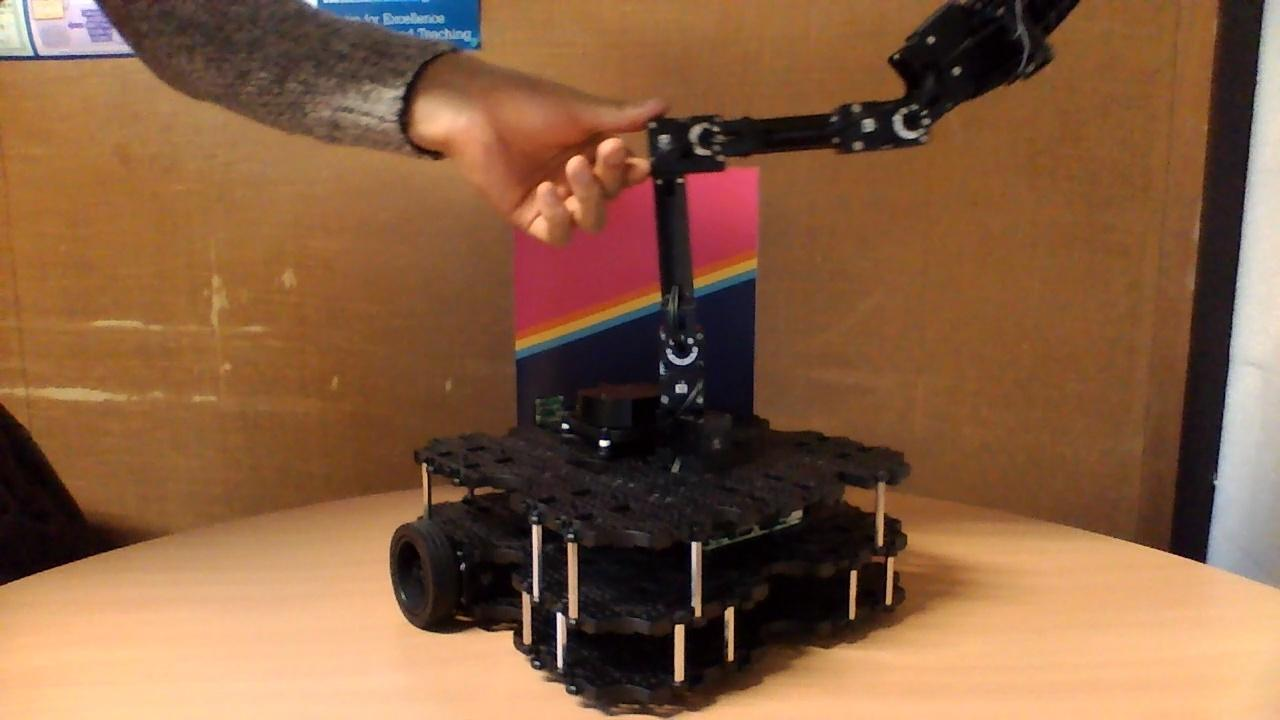Arm: (643, 110, 713, 372)
Hand: (886, 0, 1086, 152)
Wrist: (680, 96, 931, 173)
base: (388, 376, 913, 710)
